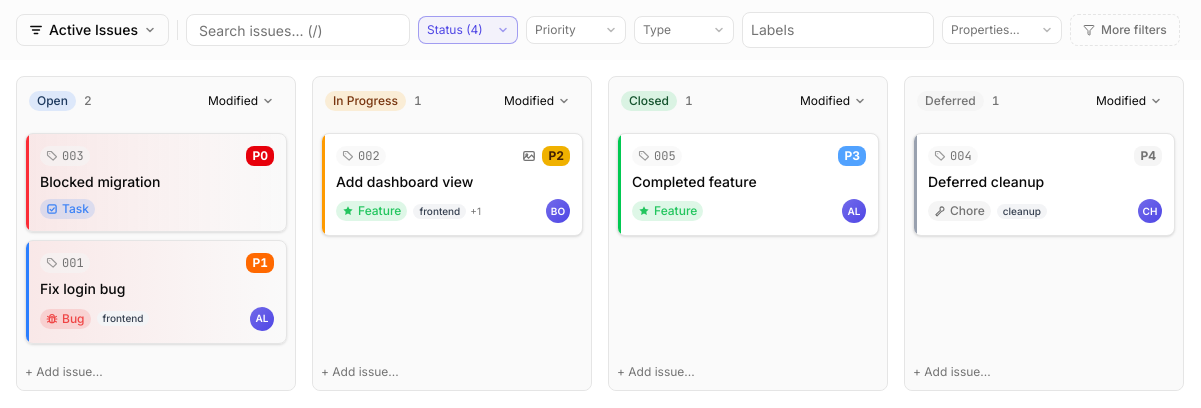
BoardView › expands closed column when clicking the collapsed strip
The width and height of the screenshot is (1201, 408).
Collapse first
Step 1. Click the button with aria-label "Collapse closed column" → (649, 101), box [621,87,875,115]
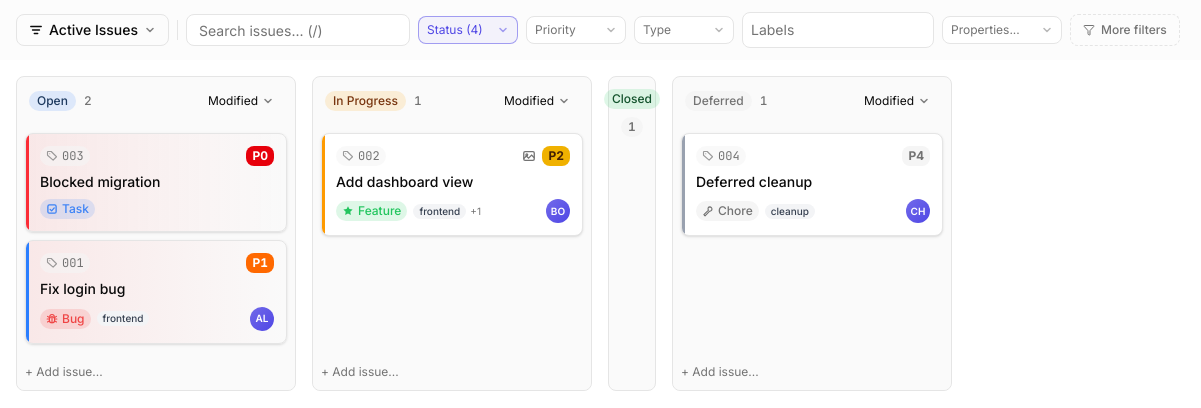
Click the expand button
Step 2. Click the button with aria-label "Expand closed column" → (632, 233), box [608,76,656,390]
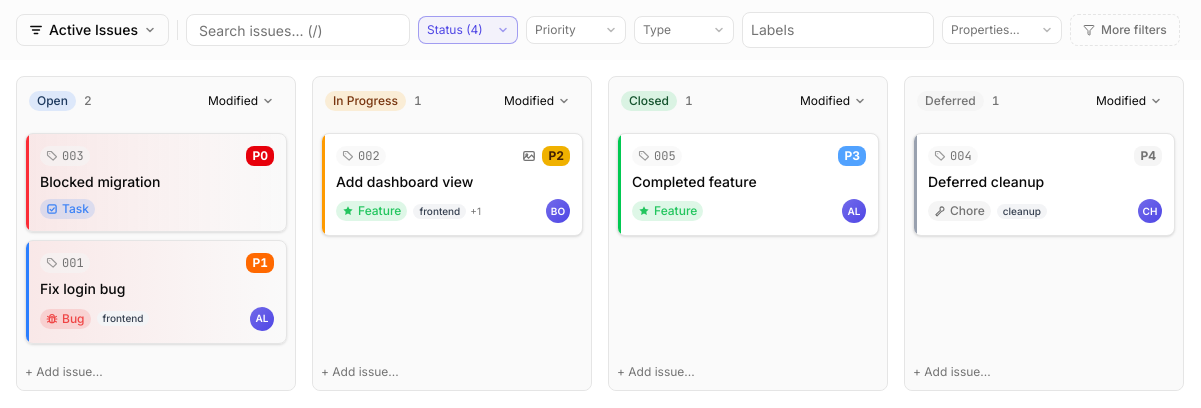
Now the list named "closed issues" is shown, box [617,133,879,236]
Now the text "Completed feature" is shown, box [632,173,757,190]
